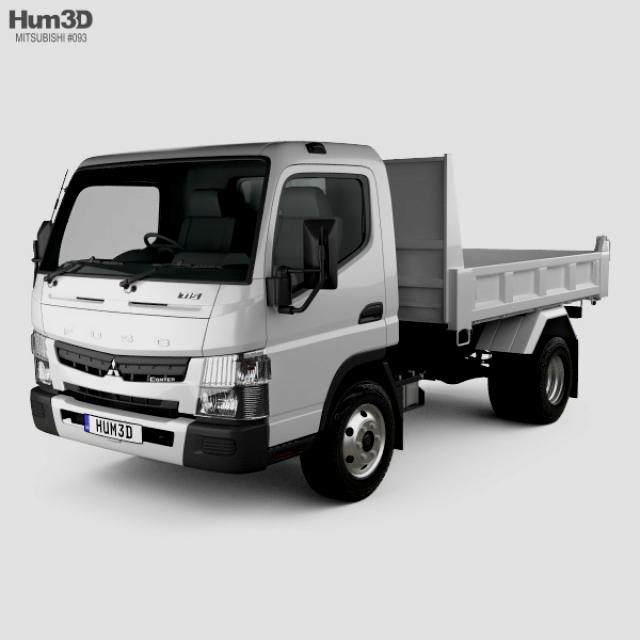truck: (33, 141, 610, 503)
